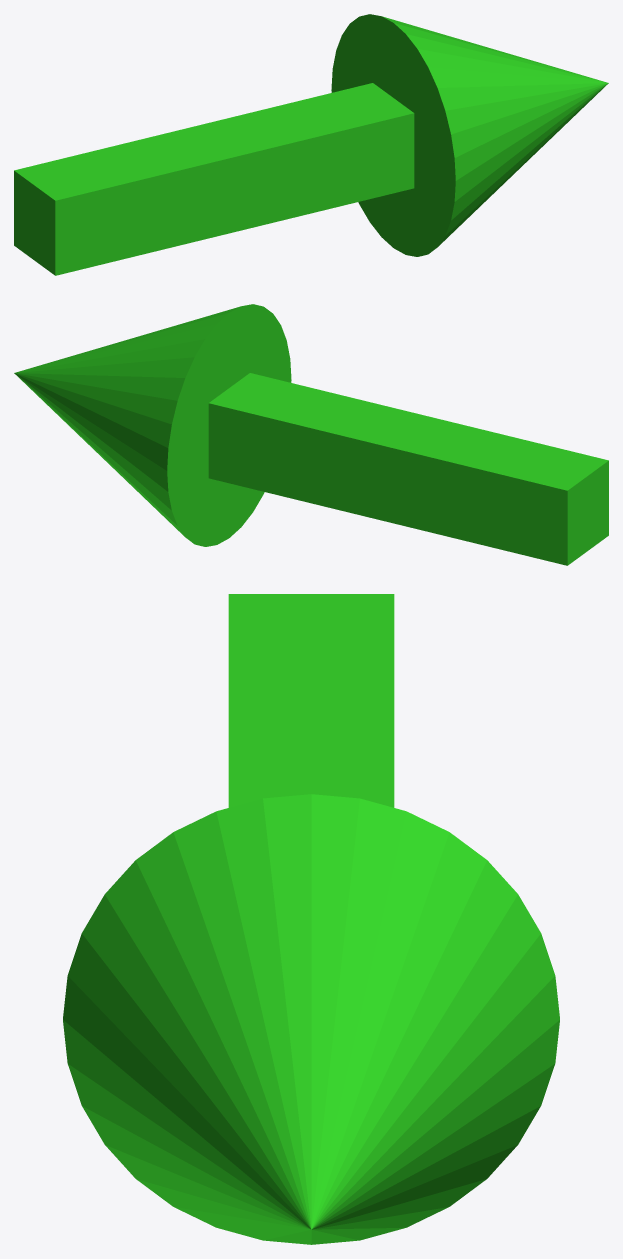
File: marker_green.dae
3 renders of one model, top to bottom at view 1: azimuth 30°, elevation 25°; view 2: azimuth 150°, elevation 25°; view 3: azimuth 270°, elevation 25°, orthographic. The views are drawn at different scales.
Parts seen in each view (by area): view 1: Cube; view 2: Cube; view 3: Cube.
Boxes of the visible parts, x1,y1,x2,y2 form: Cube: [14, 14, 608, 275]; Cube: [14, 304, 608, 565]; Cube: [63, 594, 559, 1244].
Size of the model in its own units: 0.16 by 0.06 by 0.06.
